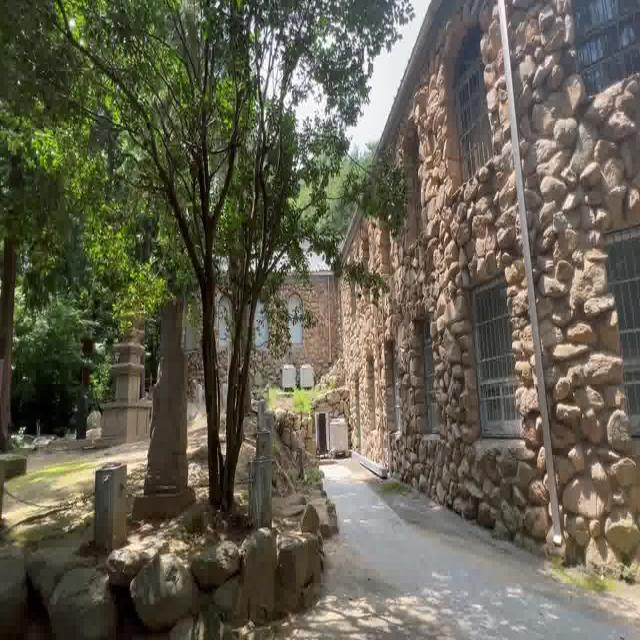building: (344, 38, 640, 569)
